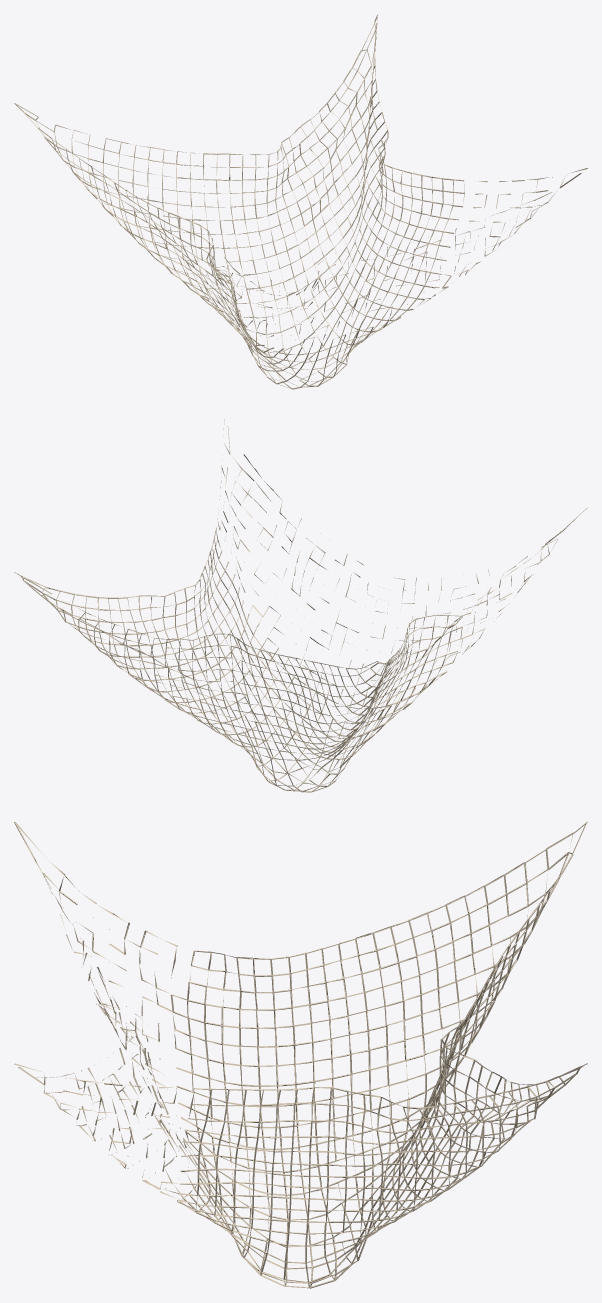
The model's file is fishing_net_game.glb.
3 views of the same model, one above another, from view 1: azimuth 30°, elevation 25°; view 2: azimuth 150°, elevation 25°; view 3: azimuth 270°, elevation 25° (orthographic). The views are drawn at different scales.
Bounding box in the file's own units: 4.01 × 2.62 × 4.01.
